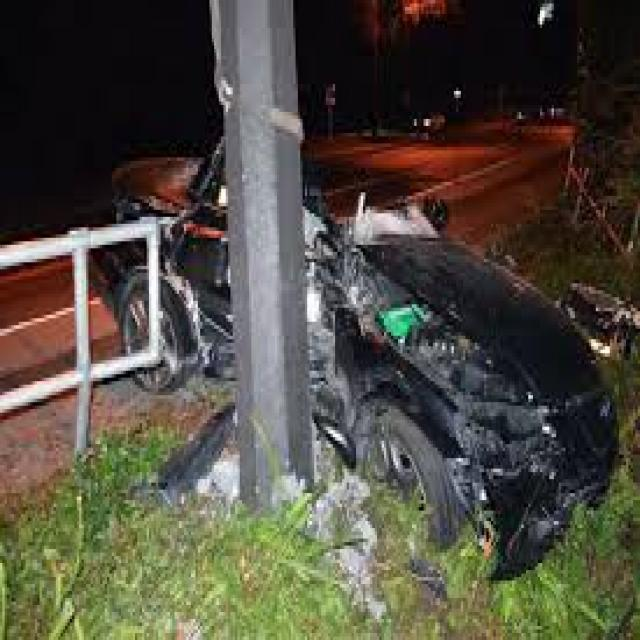accident: (102, 117, 590, 564)
